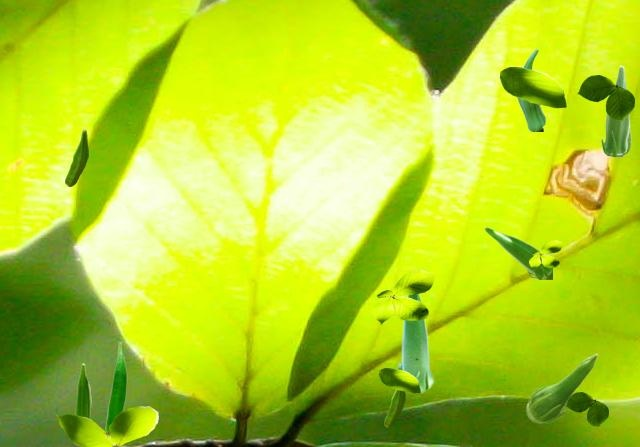okra: (526, 353, 597, 422), (397, 295, 433, 393), (484, 227, 551, 278), (601, 65, 630, 156), (516, 48, 544, 130), (105, 341, 126, 432), (65, 129, 87, 185), (75, 363, 90, 417), (384, 390, 404, 426)
